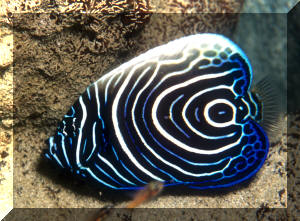Pomacanthus_imperator: (27, 24, 278, 200)
